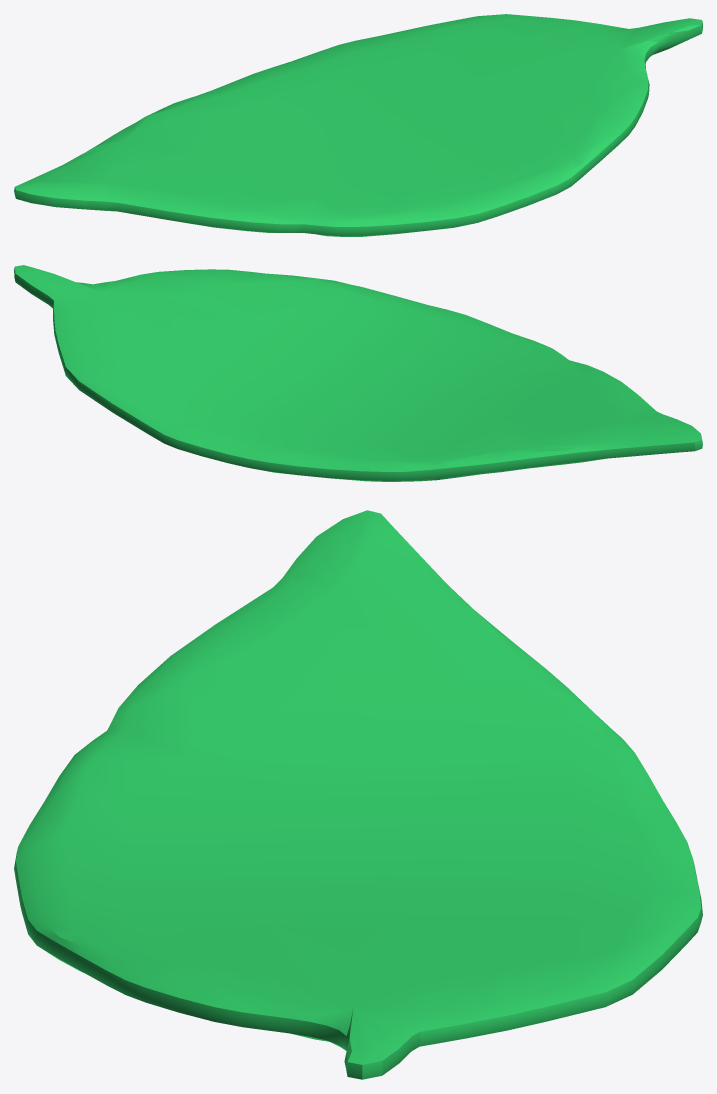
Rendered from thicc moving plat leaf 1.fbx.
The picture shows the model from 3 angles, top to bottom: view 1: azimuth 30°, elevation 25°; view 2: azimuth 150°, elevation 25°; view 3: azimuth 270°, elevation 25°; orthographic projection. The views are drawn at different scales.
Parts seen in each view (by area): view 1: thicc leaf; view 2: thicc leaf; view 3: thicc leaf.
Boxes of the visible parts, x1,y1,x2,y2 form: thicc leaf: (14,14,702,236); thicc leaf: (14,265,702,481); thicc leaf: (14,510,702,1079).
Size of the model in its own units: 350 by 25.56 by 181.
